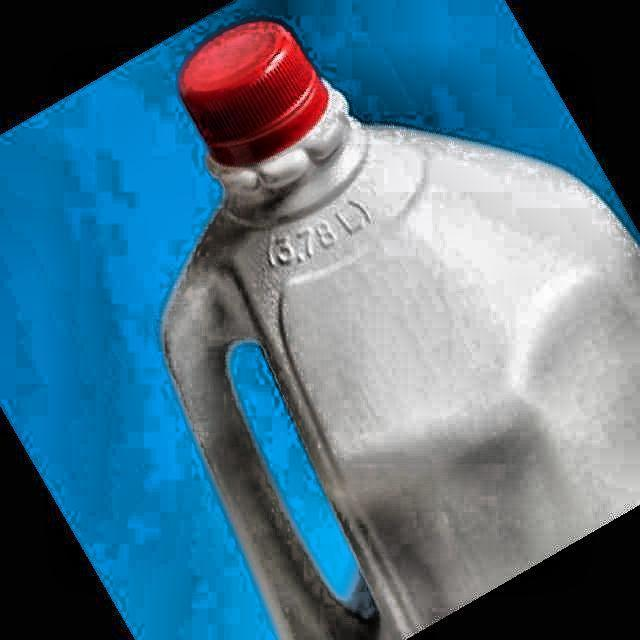plastic: (164, 20, 640, 639)
